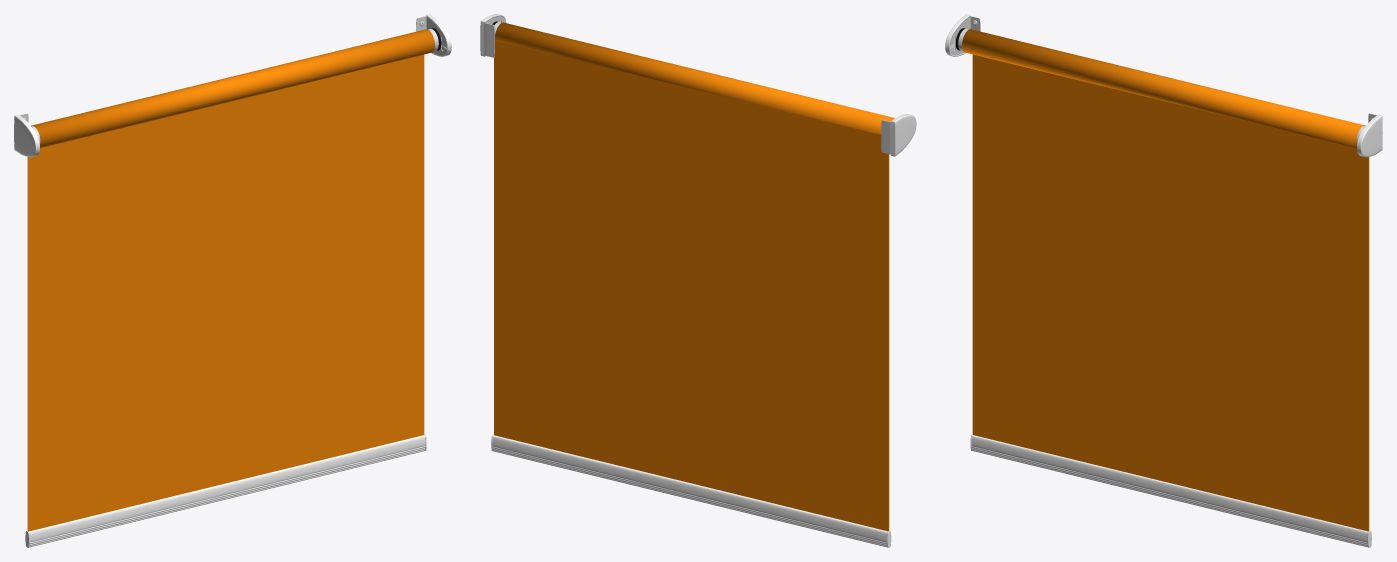
Rendered from Elektromotor 230 Volt von Rademacher.glb.
3 renders of one model, left to right at view 1: azimuth 30°, elevation 25°; view 2: azimuth 150°, elevation 25°; view 3: azimuth 330°, elevation 25°, orthographic.
Parts seen in each view (by area): view 1: Stoff.001, Stoffende.001, Cube.005, Cube.008; view 2: Stoff.001, Stoffende.001, Cube.005, Cube.008; view 3: Stoff.001, Stoffende.001, Cube.005, Cube.001.
Boxes of the visible parts, box(x1,y1,x2,y2) form: Stoff.001: box(27, 54, 424, 531); Stoffende.001: box(31, 29, 434, 147); Cube.005: box(29, 435, 425, 547); Cube.008: box(14, 114, 39, 157); Stoff.001: box(494, 41, 889, 531); Stoffende.001: box(495, 22, 894, 134); Cube.005: box(492, 435, 887, 547); Cube.008: box(891, 114, 916, 156); Stoff.001: box(972, 54, 1369, 531); Stoffende.001: box(962, 29, 1365, 147); Cube.005: box(971, 435, 1368, 547); Cube.001: box(1357, 114, 1382, 157).
Size of the model in its own units: 1.25 by 1.24 by 0.1126.
Materials: 5 (1 with a texture image).
